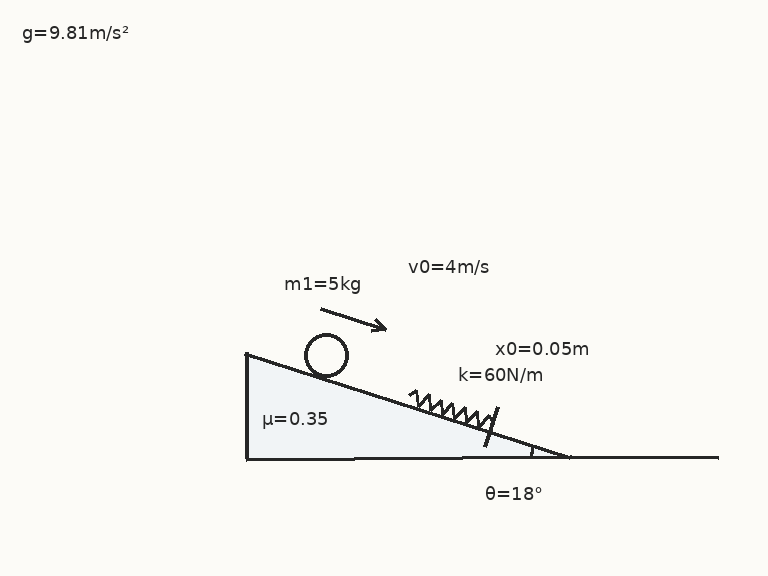ball: (302, 331, 350, 379)
ramp: (245, 351, 573, 460)
spring: (406, 389, 495, 428)
